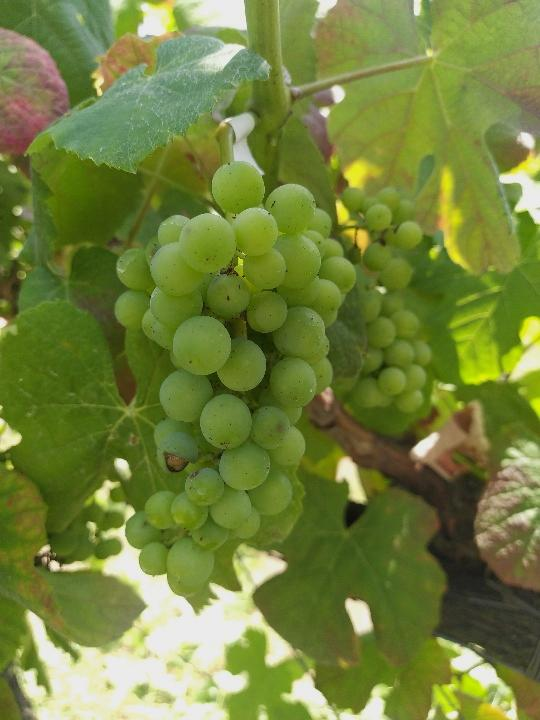grape: (109, 156, 357, 605)
